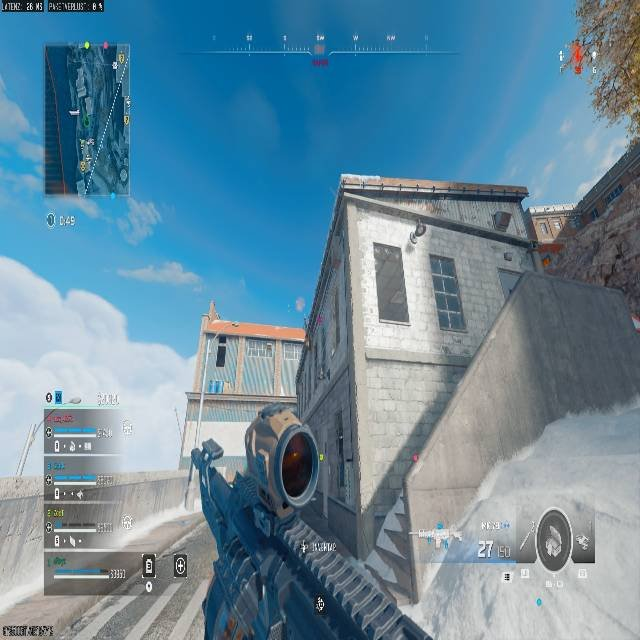head: (202, 437, 212, 450)
player: (190, 437, 224, 494)
